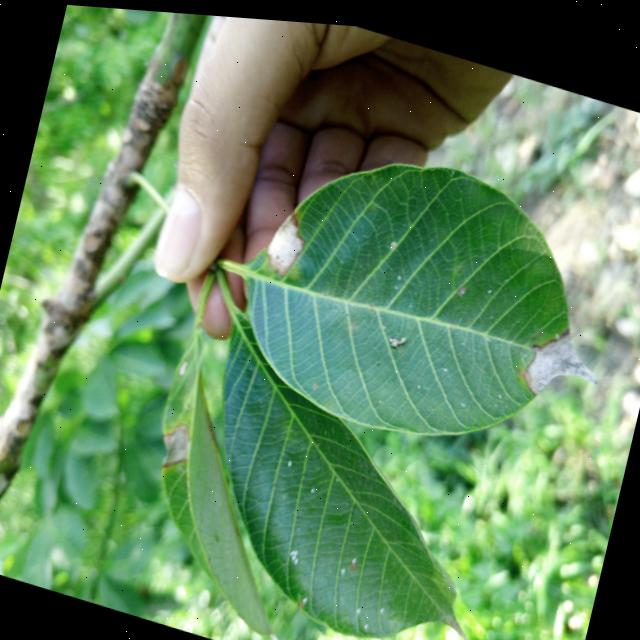Leaf-Blight: (518, 313, 606, 405), (259, 200, 309, 277), (155, 416, 193, 469), (177, 355, 187, 374)
